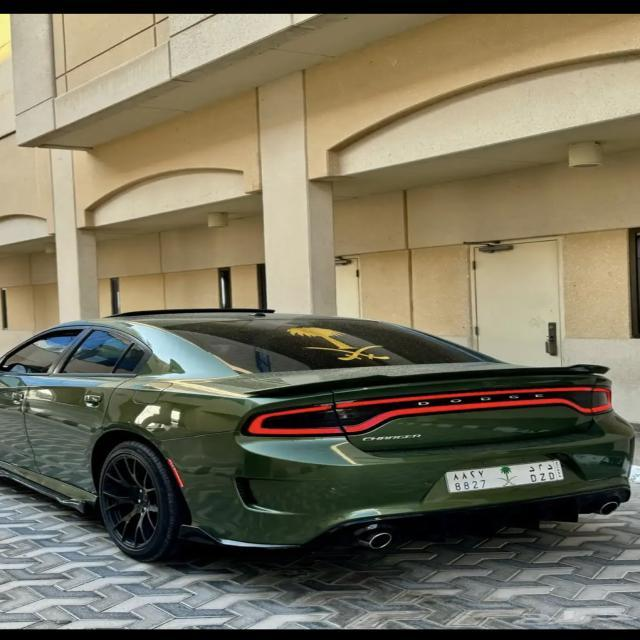license_plate: (443, 458, 564, 505)
